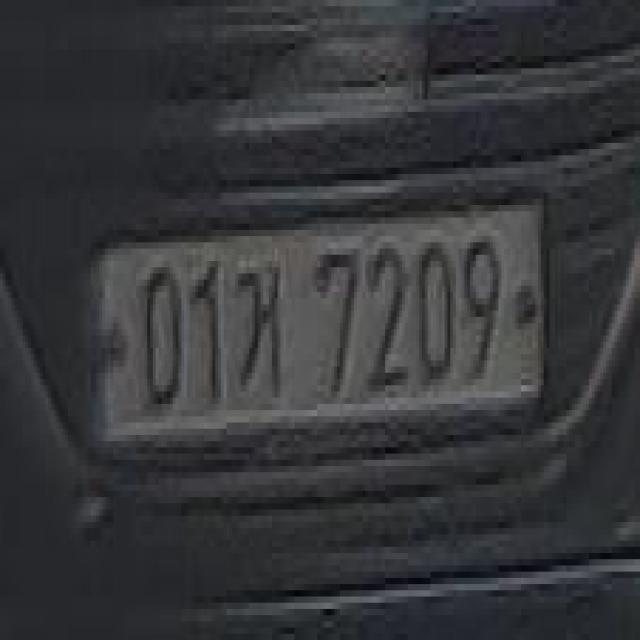illegal_plate: (88, 190, 552, 466)
